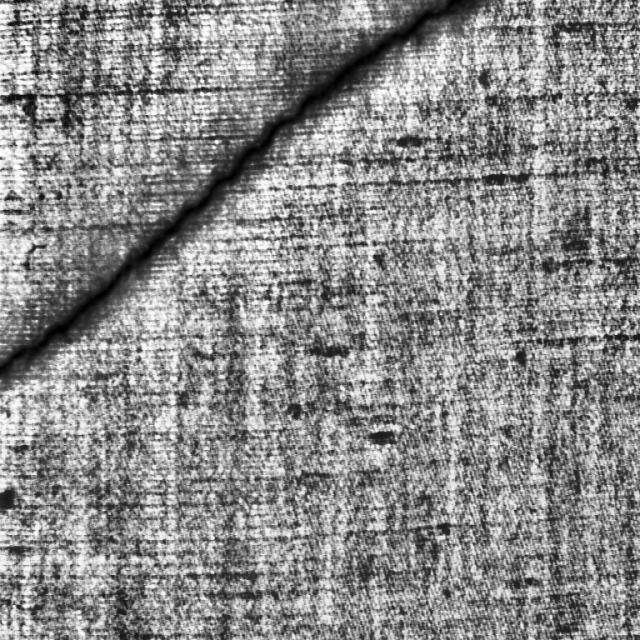Stitch: (0, 0, 479, 384)
